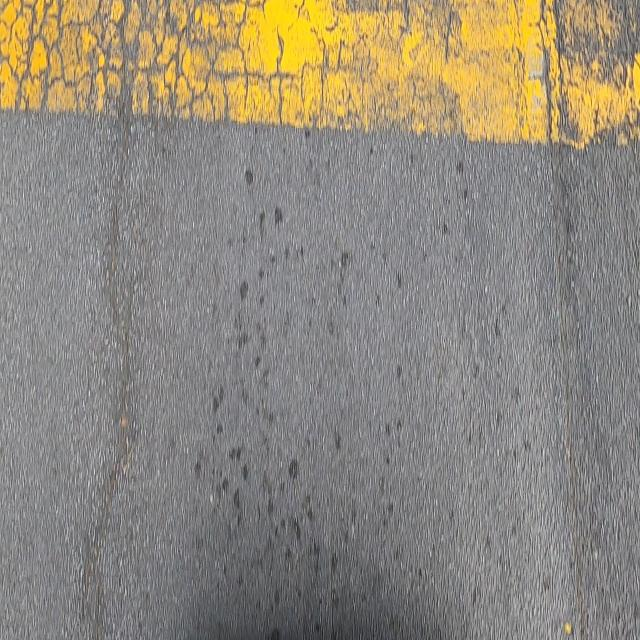Retak-Buaya: (0, 0, 458, 138)
Retak-Memanjang: (70, 390, 136, 630), (106, 121, 137, 367)
